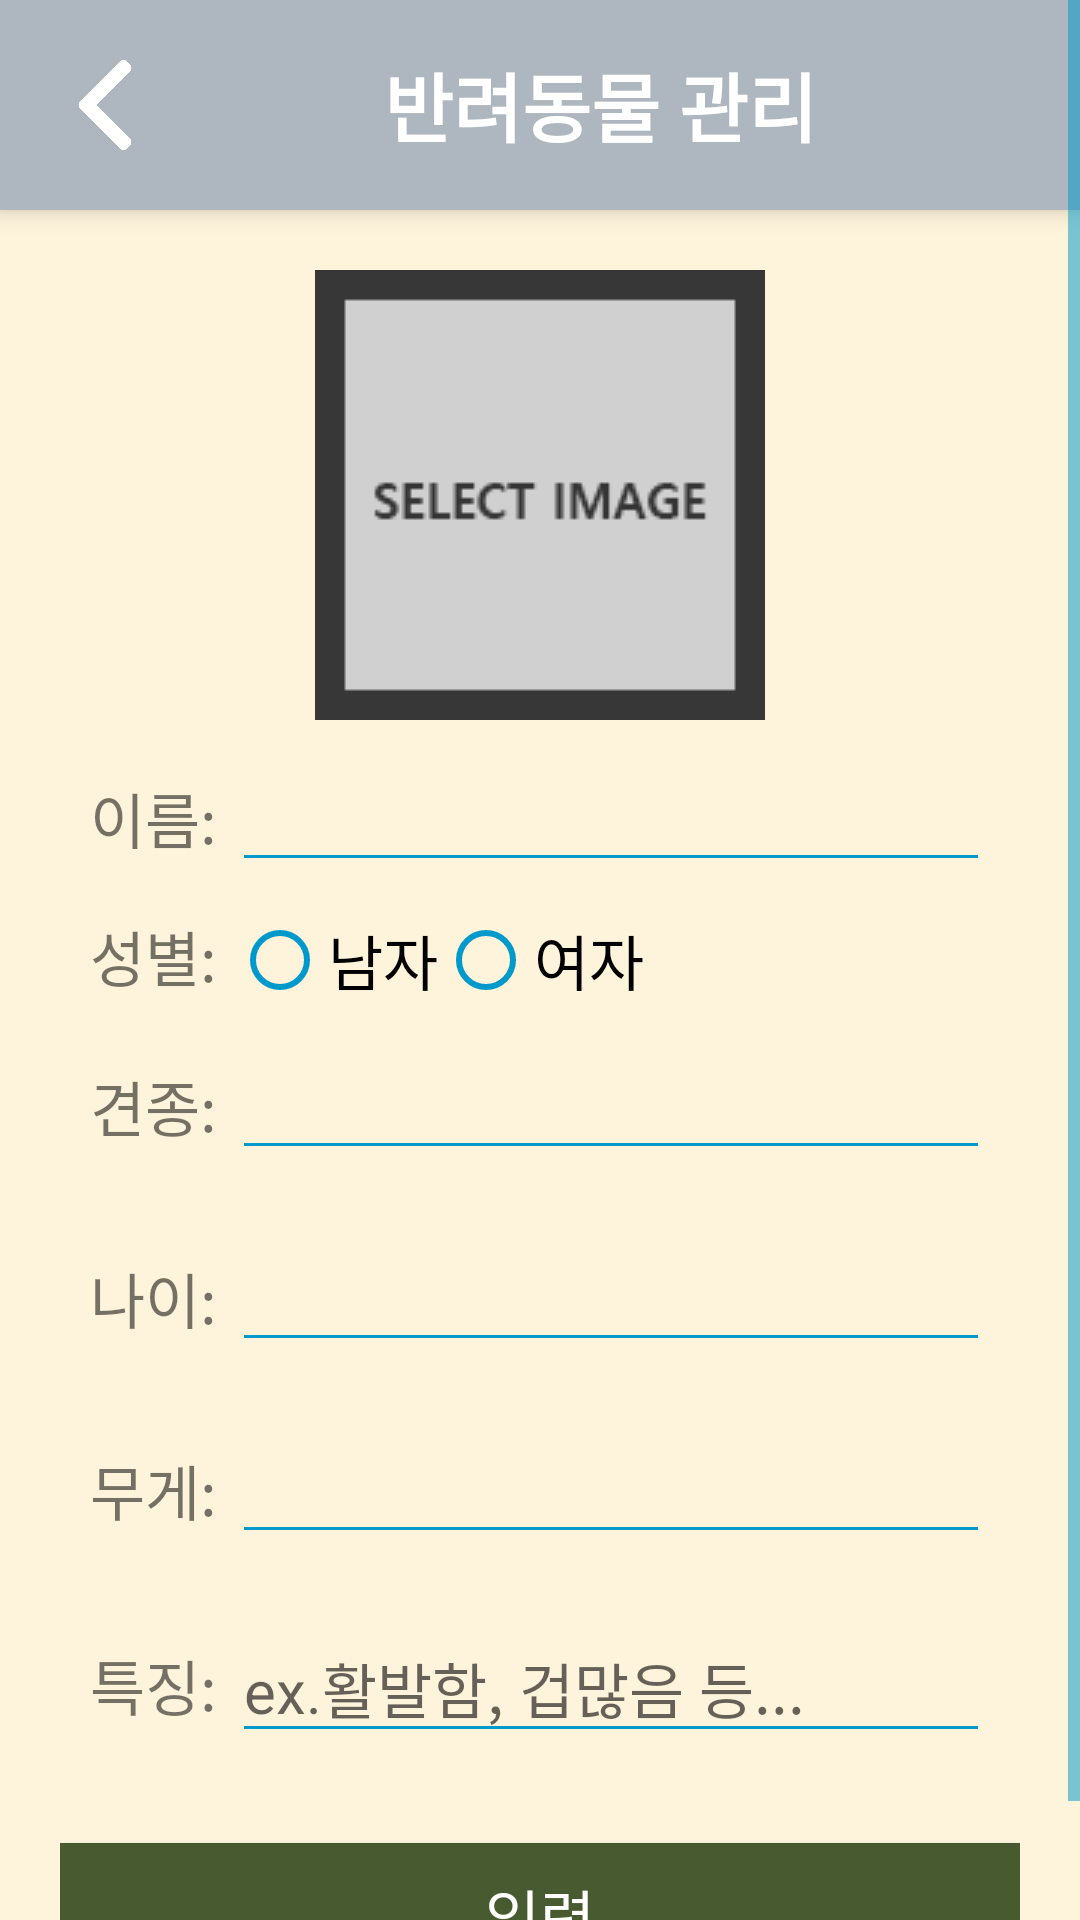

Point at icon controls on the screen. Image size 1080 x 1920, points as (x,y).
leftarrow: (105,105)
